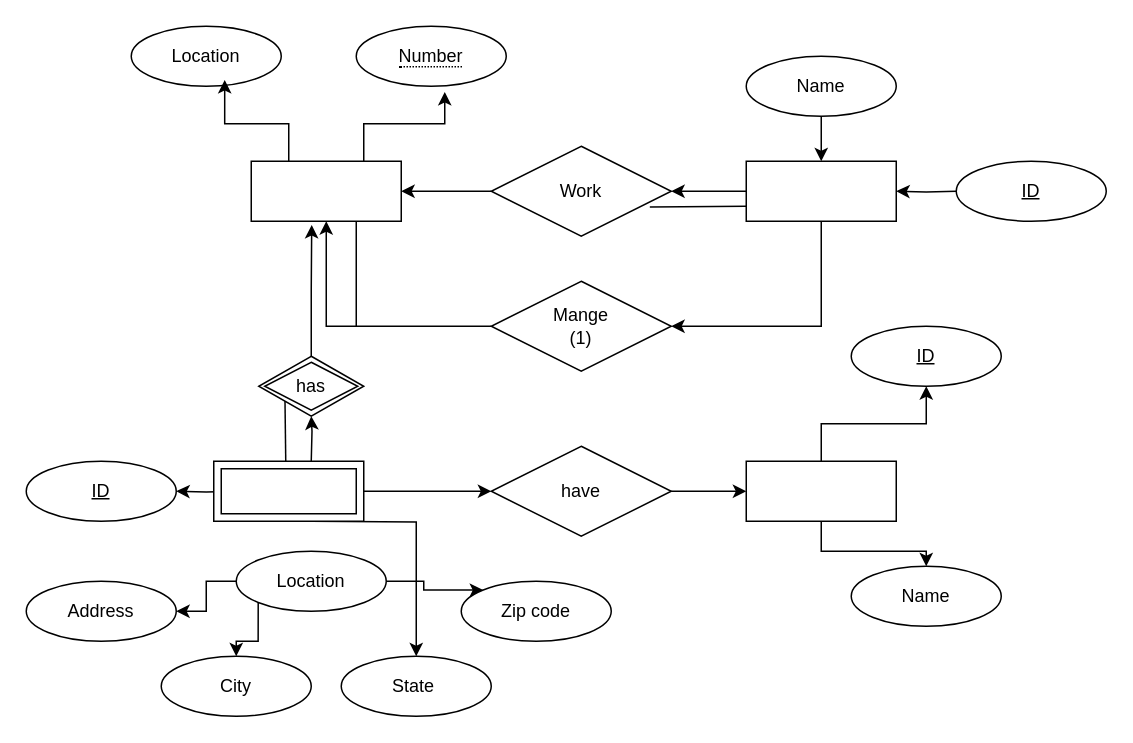
Some shapes in this 1133 by 743 pixel diagram are drawn without their labels. The shapes that lost their labels are listed below. From the top down, each one's centre as x and y in pixels, then its label:
At [325,190]: "Office (1) with Emp (1) with Manage (1) property".
At [820,190]: "Employee (M) with office".
At [288,490]: "Property (M) with office (M) with owner".
At [820,490]: "Owner (M)".
